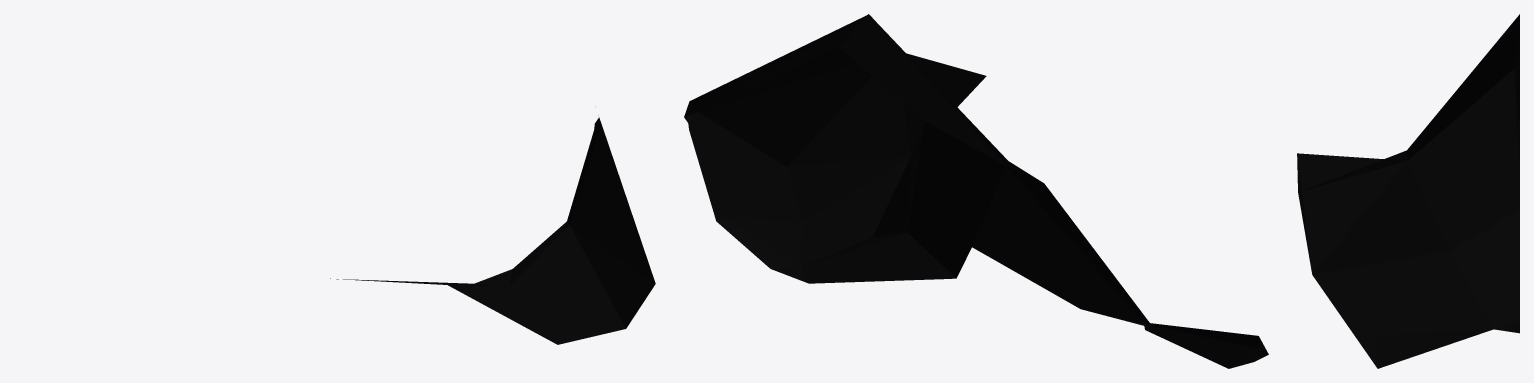
3 views of the same model, side by side, from view 1: azimuth 30°, elevation 25°; view 2: azimuth 150°, elevation 25°; view 3: azimuth 270°, elevation 25° (orthographic). The views are drawn at different scales.
Bounding box in the file's own units: 0.497 × 0.24 × 0.1679.
1 material, 1 textured.
